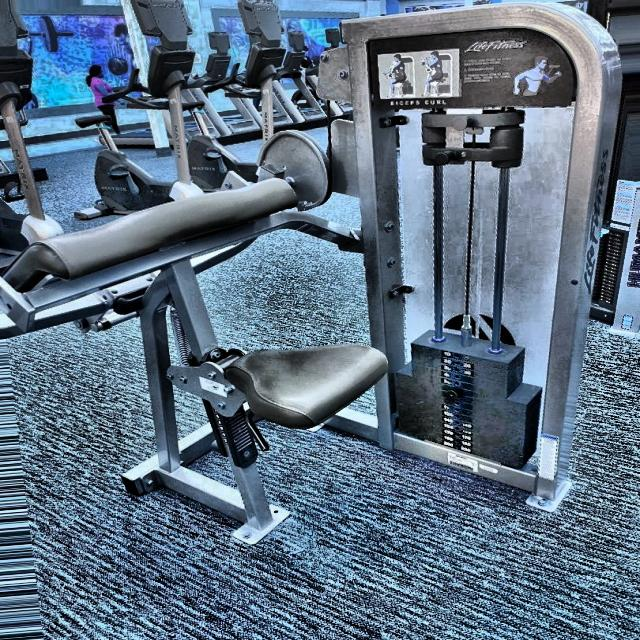bicep_curl_machine: (2, 11, 390, 567)
